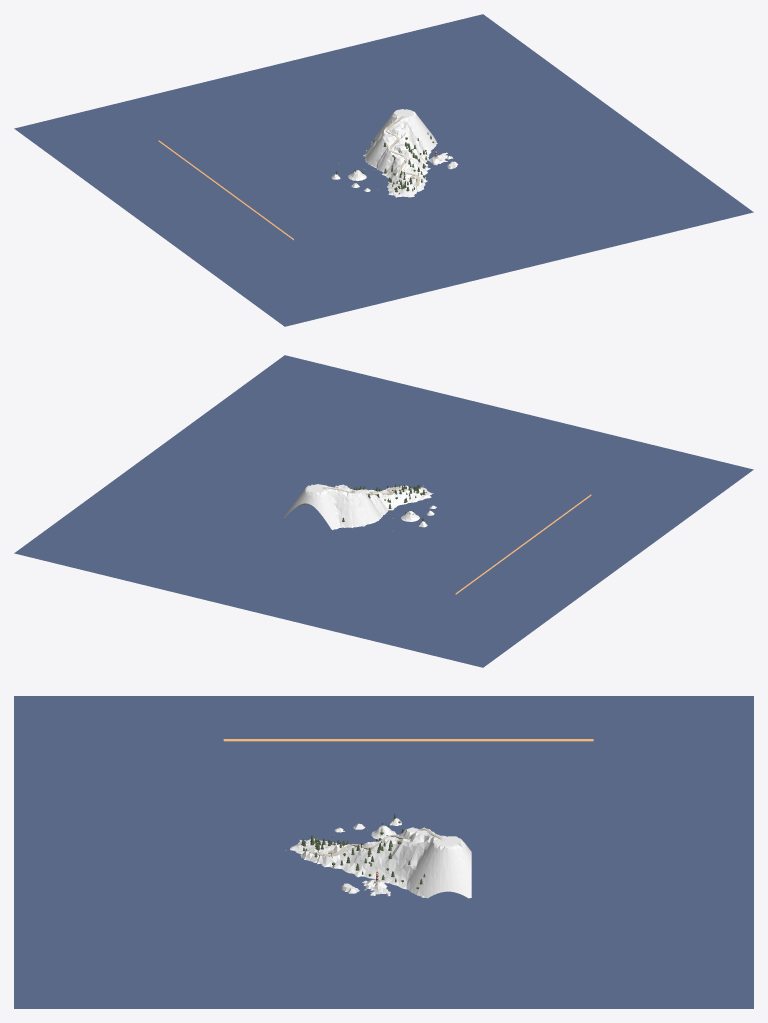
File: Try1.glb
3 renders of one model, top to bottom at view 1: azimuth 30°, elevation 25°; view 2: azimuth 150°, elevation 25°; view 3: azimuth 270°, elevation 25°, orthographic. The views are drawn at different scales.
Parts seen in each view (by area): view 1: Ocean, Terrain; view 2: Ocean, Terrain; view 3: Ocean, Terrain, HorizonGlowCard.
Part boxes in pixels (x1,y1,x2,y2): Ocean: (14, 14, 753, 326); Terrain: (331, 109, 458, 197); Ocean: (14, 355, 753, 667); Terrain: (284, 484, 436, 529); Ocean: (14, 696, 753, 1008); Terrain: (285, 818, 471, 898); HorizonGlowCard: (223, 739, 593, 741).
Size of the model in its own units: 300 by 78.56 by 300.
25 materials, 2 textured.
